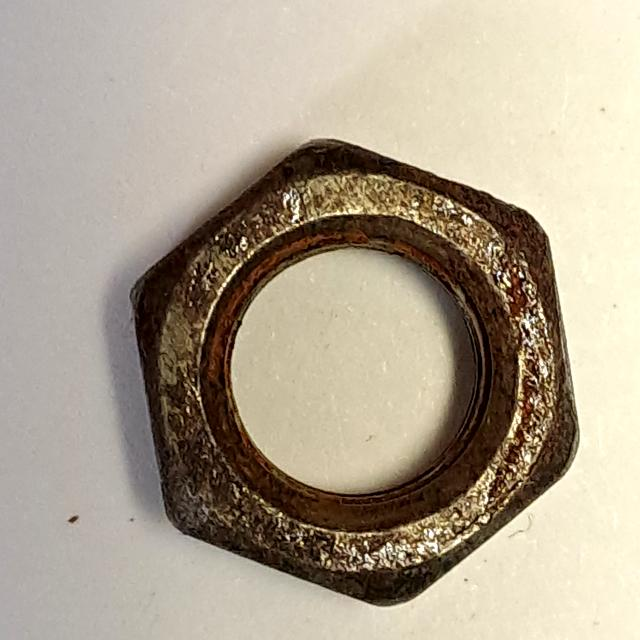Rust: (124, 130, 592, 623)
